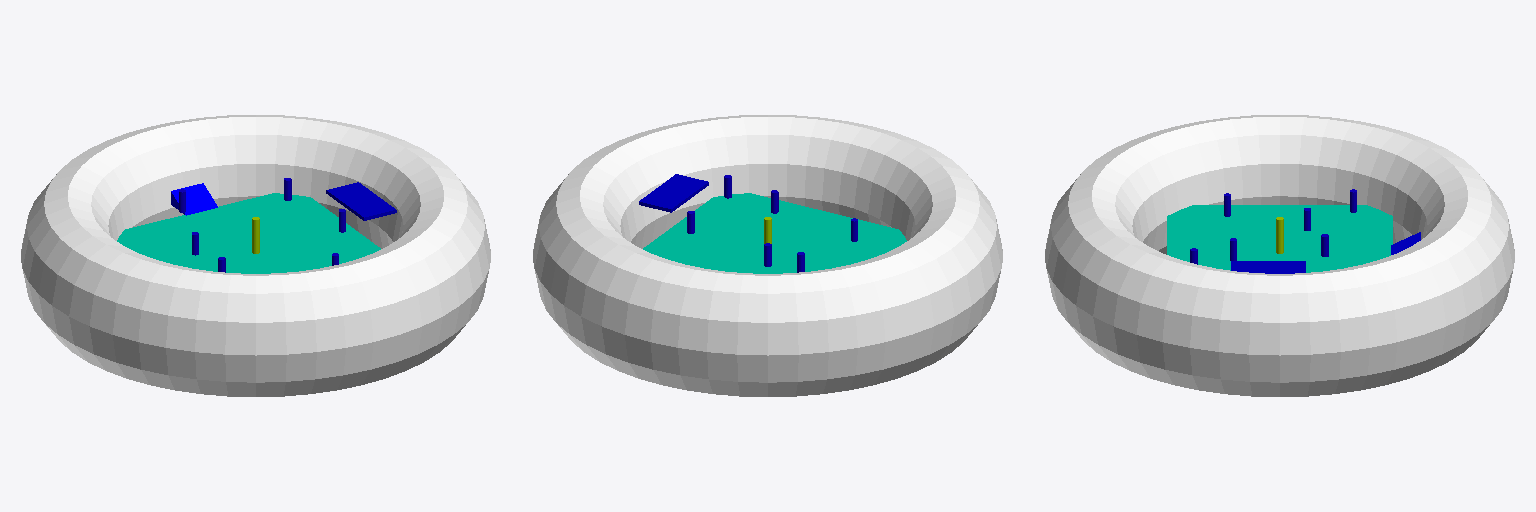
The model's file is Floor.obj.
3 renders of one model, left to right at view 1: azimuth 30°, elevation 25°; view 2: azimuth 150°, elevation 25°; view 3: azimuth 270°, elevation 25°, orthographic.
Visible parts, largest first — view 1: Torus, Cube, Cube.002, Cube.001; view 2: Torus, Cube, Cube.002; view 3: Torus, Cube, Cube.002.
Part boxes in pixels (x1,y1,x2,y2): Torus: (21,115,490,396); Cube: (117,193,380,273); Cube.002: (326,182,396,220); Cube.001: (171,183,217,215); Torus: (533,115,1002,396); Cube: (643,193,906,273); Cube.002: (639,174,708,212); Torus: (1045,115,1514,396); Cube: (1167,205,1392,272); Cube.002: (1231,261,1305,273).
Bounding box in the file's own units: 125 × 35 × 125.